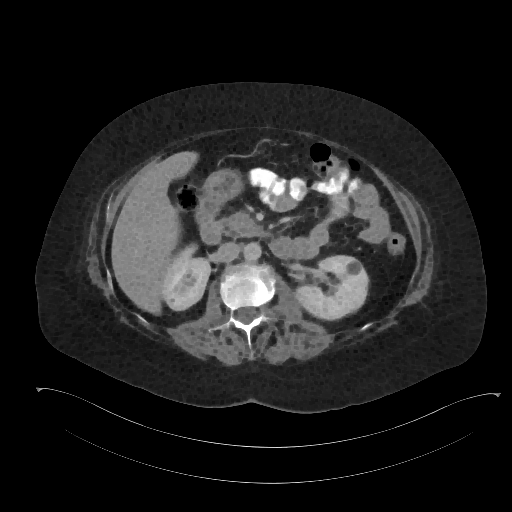Lesion: (346, 256, 364, 276)
